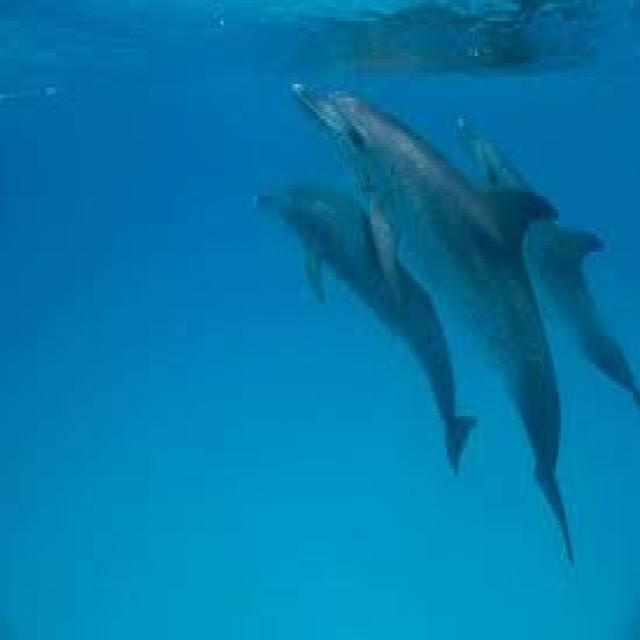dolphin: (302, 46, 578, 574), (263, 168, 475, 528), (470, 105, 640, 416)
